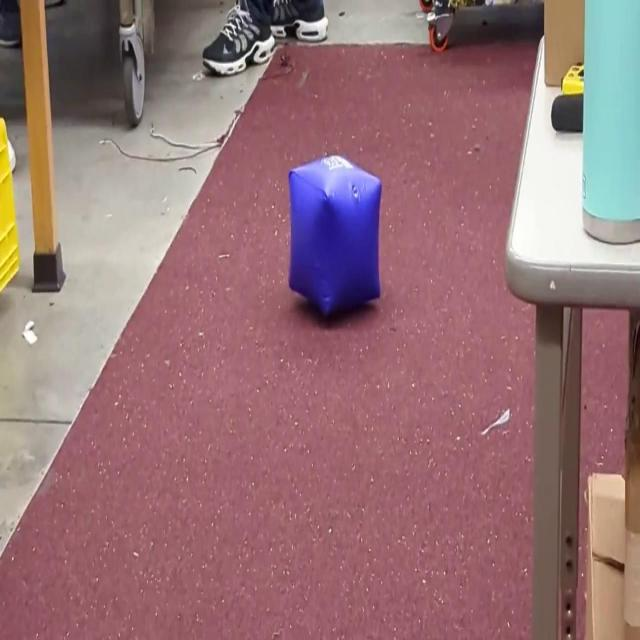frc_cube: (286, 150, 384, 324)
